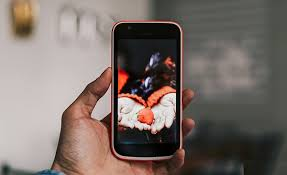nokia: (109, 18, 185, 163)
